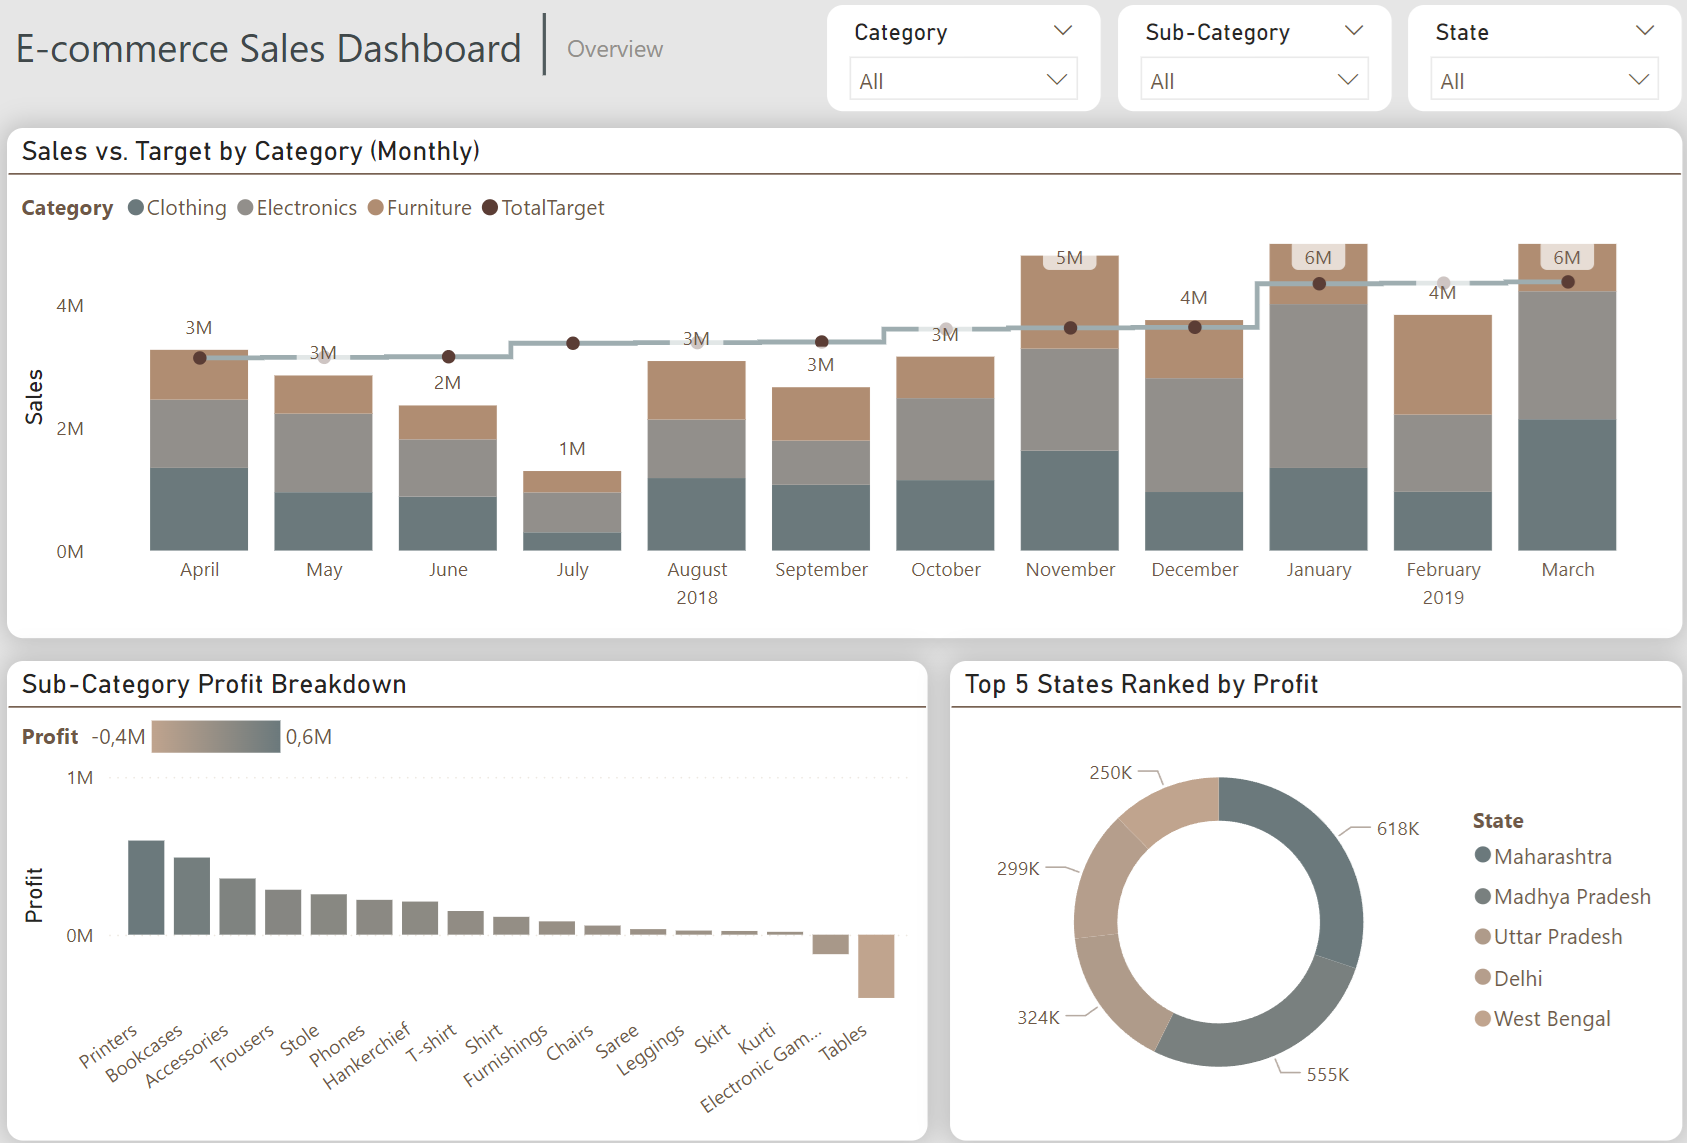

The dashboard page shown, as its layout file describes it:
{"tool":"powerbi","page":{"name":"Sales","canvas":[1280,720],"ordinal":0},"visuals":[{"type":"shape","box":[5.2,5.2,130.5,708.8],"z":0},{"type":"textbox","box":[174.9,12.6,371.3,57.1],"z":1000},{"type":"image","box":[5.2,556.3,130.5,157.7],"z":2000},{"type":"shape","box":[498.8,12.9,19,38.7],"z":3000},{"type":"textbox","box":[517.8,19,99.3,49.6],"z":4000},{"type":"image","box":[33.4,144.6,75.6,74.1],"z":5500},{"type":"lineStackedColumnComboChart","title":"Sales vs. Target by Category (Monthly)","fields":{"Y":["Sum(Order Details.Amount)"],"Series":["DistinctCategories.Category"],"Category":["DateTable.Date.Variation.Date Hierarchy.Year","DateTable.Date.Variation.Date Hierarchy.Month"],"Y2":["Sales target.TotalTarget"]},"box":[174.6,84.5,1040.8,316.9],"z":6000},{"type":"columnChart","title":"Sub-Category Profit Breakdown","fields":{"Category":["Order Details.Sub-Category"],"Y":["Sum(Order Details.Profit)"]},"box":[174.7,415.5,571.9,298.4],"z":7000},{"type":"donutChart","title":"Top 5 States Ranked by Profit","fields":{"Category":["List of Orders.State"],"Y":["Sum(Order Details.Profit)"]},"box":[760.4,415.5,454.8,298.4],"z":8000},{"type":"slicer","fields":{"Values":["List of Orders.State"]},"box":[1045.3,8,170.3,65.6],"z":9000},{"type":"slicer","fields":{"Values":["Order Details.Sub-Category"]},"box":[865.2,8,169.7,65.6],"z":10000},{"type":"slicer","fields":{"Values":["DistinctCategories.Category"]},"box":[684.4,8,169.7,65.6],"z":11000},{"type":"actionButton","box":[36.8,28.8,74.1,60.7],"z":12000},{"type":"image","box":[31.9,244.5,77.4,73.7],"z":13000},{"type":"image","box":[30.1,353.2,84.8,84.8],"z":14000},{"type":"shape","box":[19,229.1,102.6,103.8],"z":15000}]}

Visuals, with their boxes on the page's 1280x720 design canvas (x1, y1, x2, y2). These are canvas units, not pixel positions in the 1687x1143 screenshot, which may show the page scaled, cropped or inside an application window:
shape: (x1=5, y1=5, x2=136, y2=714)
textbox: (x1=175, y1=13, x2=546, y2=70)
image: (x1=5, y1=556, x2=136, y2=714)
shape: (x1=499, y1=13, x2=518, y2=52)
textbox: (x1=518, y1=19, x2=617, y2=69)
image: (x1=33, y1=145, x2=109, y2=219)
"Sales vs. Target by Category (Monthly)" lineStackedColumnComboChart: (x1=175, y1=84, x2=1215, y2=401)
"Sub-Category Profit Breakdown" columnChart: (x1=175, y1=416, x2=747, y2=714)
"Top 5 States Ranked by Profit" donutChart: (x1=760, y1=416, x2=1215, y2=714)
slicer - List of Orders.State: (x1=1045, y1=8, x2=1216, y2=74)
slicer - Order Details.Sub-Category: (x1=865, y1=8, x2=1035, y2=74)
slicer - DistinctCategories.Category: (x1=684, y1=8, x2=854, y2=74)
actionButton: (x1=37, y1=29, x2=111, y2=90)
image: (x1=32, y1=244, x2=109, y2=318)
image: (x1=30, y1=353, x2=115, y2=438)
shape: (x1=19, y1=229, x2=122, y2=333)
